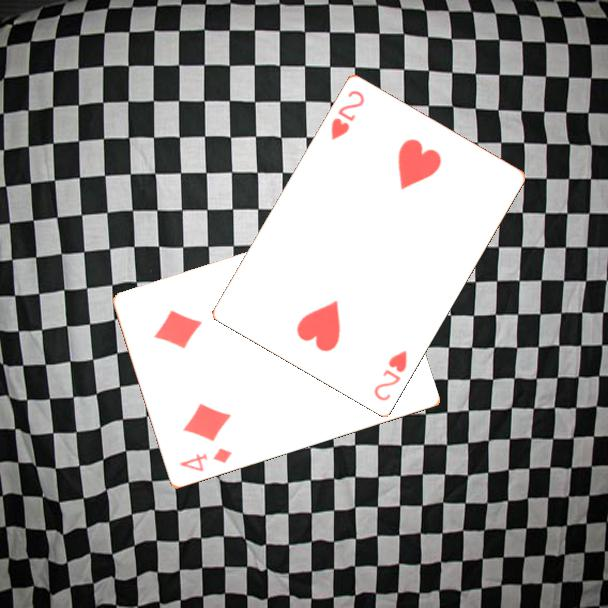d04: (176, 445, 235, 475)
h02: (370, 346, 410, 404), (327, 86, 367, 143)
